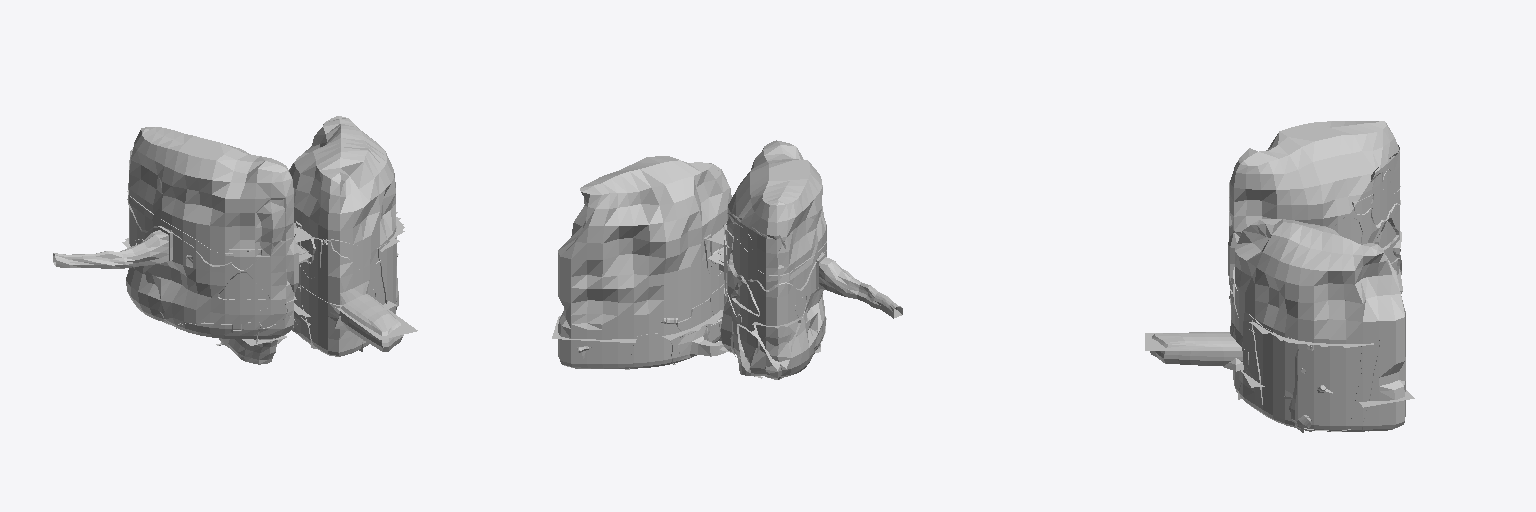
Rendered from Ice Cap 4 fishing.obj.
3 views of the same model, side by side, from view 1: azimuth 30°, elevation 25°; view 2: azimuth 150°, elevation 25°; view 3: azimuth 270°, elevation 25° (orthographic).
Visible parts, largest first — view 1: object_[number redacted], object_009B1B1C, object_[number redacted]C, object_[number redacted]C, object_0097AA7C, object_009AEC0C, object_009B4E64, object_0097C894, object_009B8E94, object_00983E28, object_009B94D0, object_0099CB80 (+1 smaller); view 2: object_009B1B1C, object_009B4E64, object_009AEC0C, object_[number redacted], object_009B8E94, object_[number redacted]C, object_0097AA7C, object_[number redacted]C, object_0097C894, object_0096D71C, object_0096CB0C; view 3: object_[number redacted], object_009B1B1C, object_009B4E64, object_009AEC0C, object_[number redacted]C, object_009B8E94, object_00983E28, object_009B94D0, object_0097AA7C.
Boxes of the visible parts, x1=… form: object_[number redacted]: x1=129, y1=127, x2=293, y2=213; object_009B1B1C: x1=289, y1=116, x2=395, y2=230; object_[number redacted]C: x1=126, y1=258, x2=293, y2=338; object_[number redacted]C: x1=129, y1=174, x2=298, y2=256; object_0097AA7C: x1=129, y1=215, x2=298, y2=299; object_009AEC0C: x1=294, y1=193, x2=395, y2=277; object_009B4E64: x1=294, y1=238, x2=395, y2=325; object_0097C894: x1=53, y1=230, x2=168, y2=268; object_009B8E94: x1=291, y1=290, x2=395, y2=356; object_00983E28: x1=300, y1=285, x2=403, y2=351; object_009B94D0: x1=342, y1=294, x2=398, y2=331; object_0099CB80: x1=216, y1=338, x2=284, y2=364; object_009B1B1C: x1=574, y1=156, x2=731, y2=243; object_009B4E64: x1=558, y1=263, x2=724, y2=339; object_009AEC0C: x1=558, y1=209, x2=727, y2=288; object_[number redacted]: x1=728, y1=140, x2=822, y2=253; object_009B8E94: x1=558, y1=308, x2=723, y2=368; object_[number redacted]C: x1=724, y1=206, x2=826, y2=297; object_0097AA7C: x1=723, y1=262, x2=823, y2=342; object_[number redacted]C: x1=721, y1=294, x2=825, y2=376; object_0097C894: x1=819, y1=257, x2=902, y2=318; object_0096D71C: x1=747, y1=313, x2=817, y2=379; object_0096CB0C: x1=777, y1=214, x2=817, y2=283; object_[number redacted]: x1=1230, y1=121, x2=1399, y2=204; object_009B1B1C: x1=1235, y1=219, x2=1400, y2=303; object_009B4E64: x1=1230, y1=304, x2=1405, y2=401; object_009AEC0C: x1=1232, y1=267, x2=1405, y2=349; object_[number redacted]C: x1=1228, y1=167, x2=1399, y2=247; object_009B8E94: x1=1233, y1=370, x2=1405, y2=431; object_00983E28: x1=1150, y1=334, x2=1248, y2=372; object_009B94D0: x1=1155, y1=332, x2=1240, y2=346; object_0097AA7C: x1=1228, y1=211, x2=1399, y2=285.
Size of the model in its own units: 1653 by 994 by 1154.